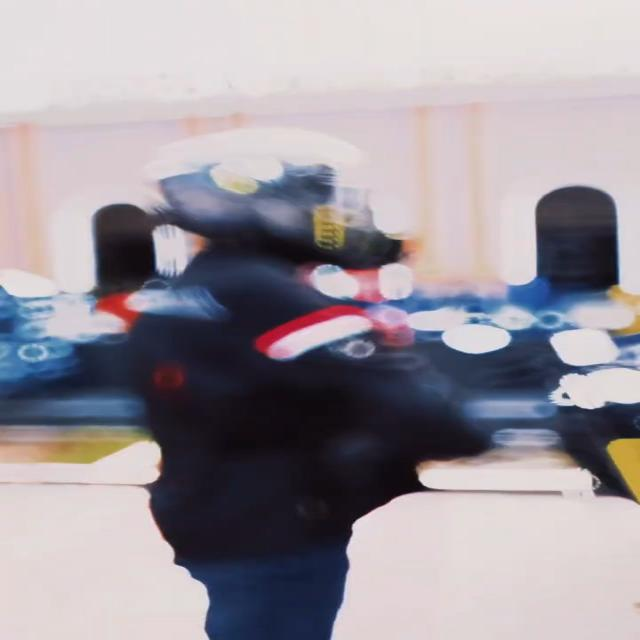Helmet_Wearer: (143, 130, 415, 259)
Jacket_Wearer: (120, 258, 470, 553)
Person: (123, 124, 481, 636)
